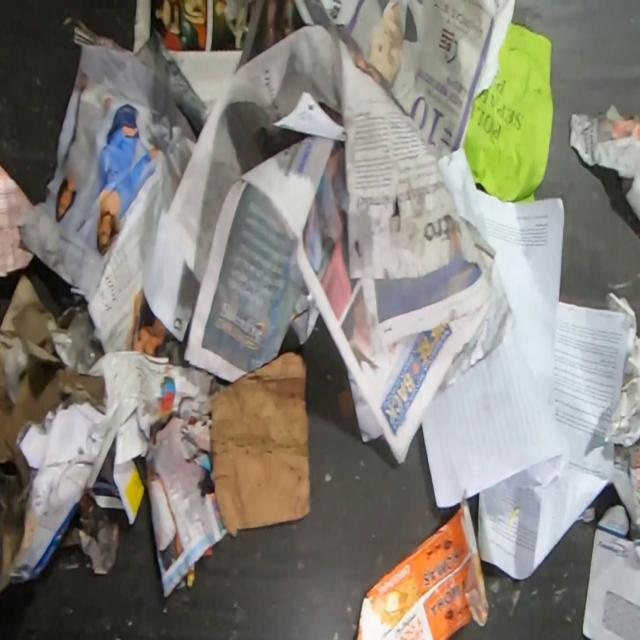cardboard: (0, 273, 107, 593), (206, 350, 311, 538), (5, 401, 110, 585), (354, 499, 489, 640)
